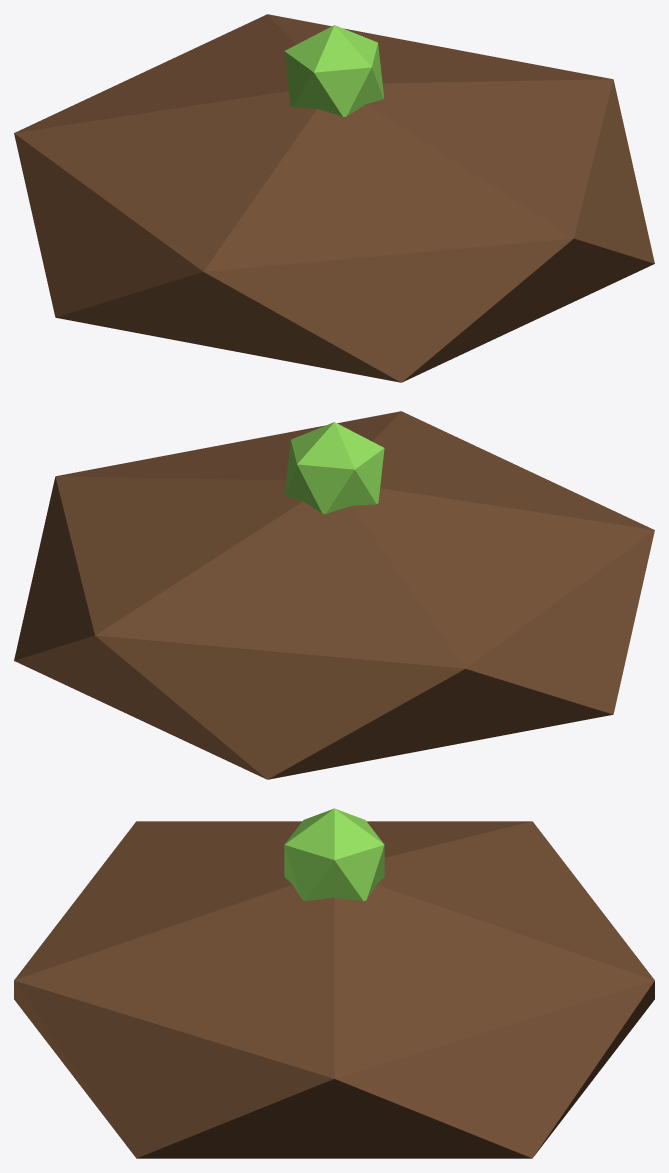
Rendered from crop_tomato_0.glb.
The picture shows the model from 3 angles, top to bottom: view 1: azimuth 30°, elevation 25°; view 2: azimuth 150°, elevation 25°; view 3: azimuth 270°, elevation 25°; orthographic projection. The views are drawn at different scales.
Visible parts, largest first — view 1: crop_tomato_0; view 2: crop_tomato_0; view 3: crop_tomato_0.
Boxes of the visible parts, left/top/right/bottom form: crop_tomato_0: left=14, top=14, right=654, bottom=382; crop_tomato_0: left=14, top=411, right=654, bottom=779; crop_tomato_0: left=14, top=808, right=654, bottom=1158.
Bounding box in the file's own units: 0.3721 × 0.1833 × 0.3539.
